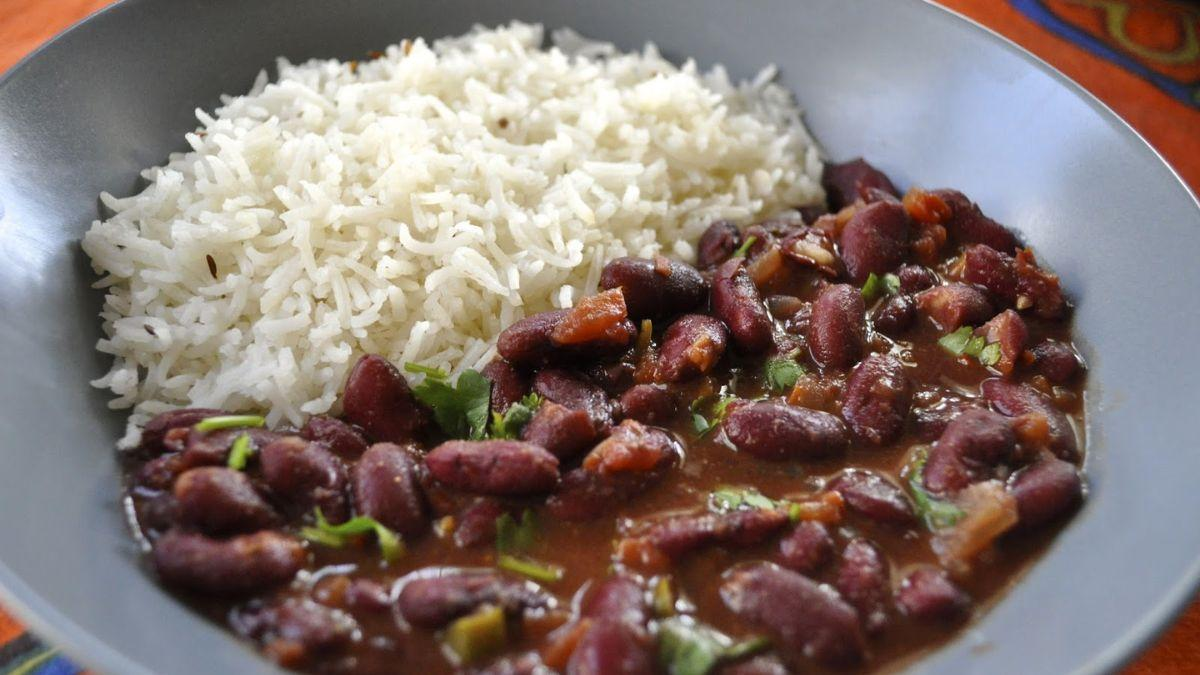rajma: (382, 358, 1102, 675)
rice: (158, 47, 683, 283)
